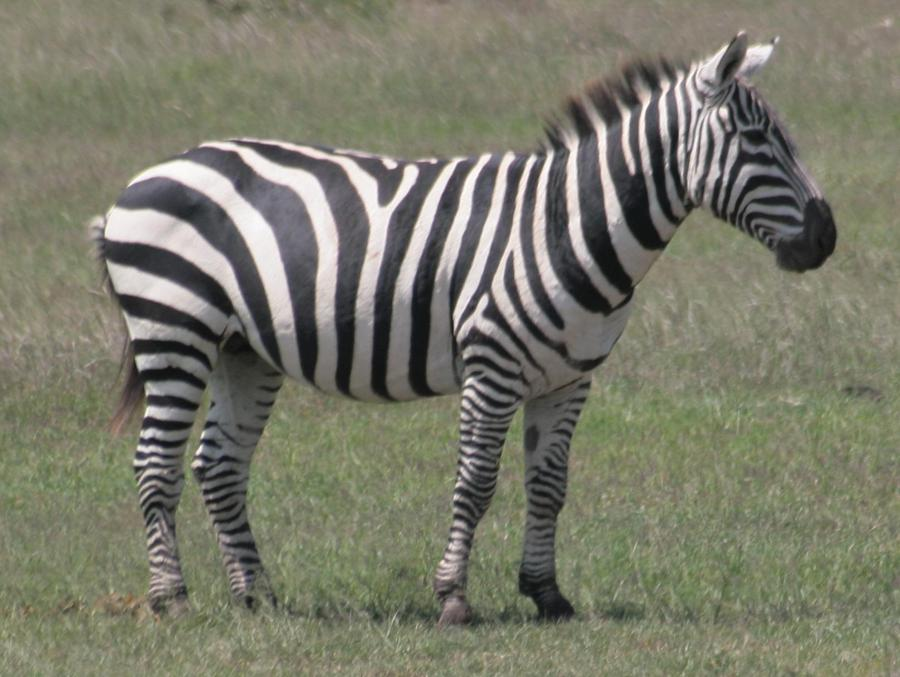zebra_plains: (81, 106, 588, 444)
